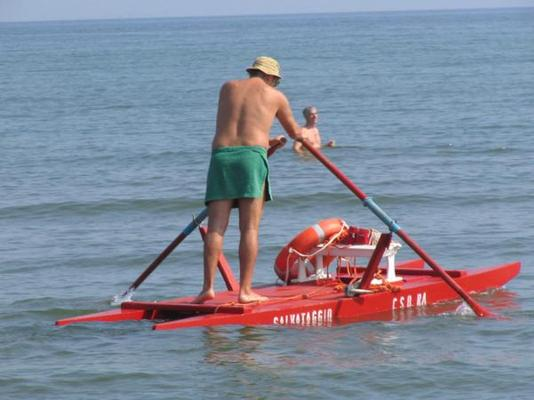person: (193, 57, 311, 305)
